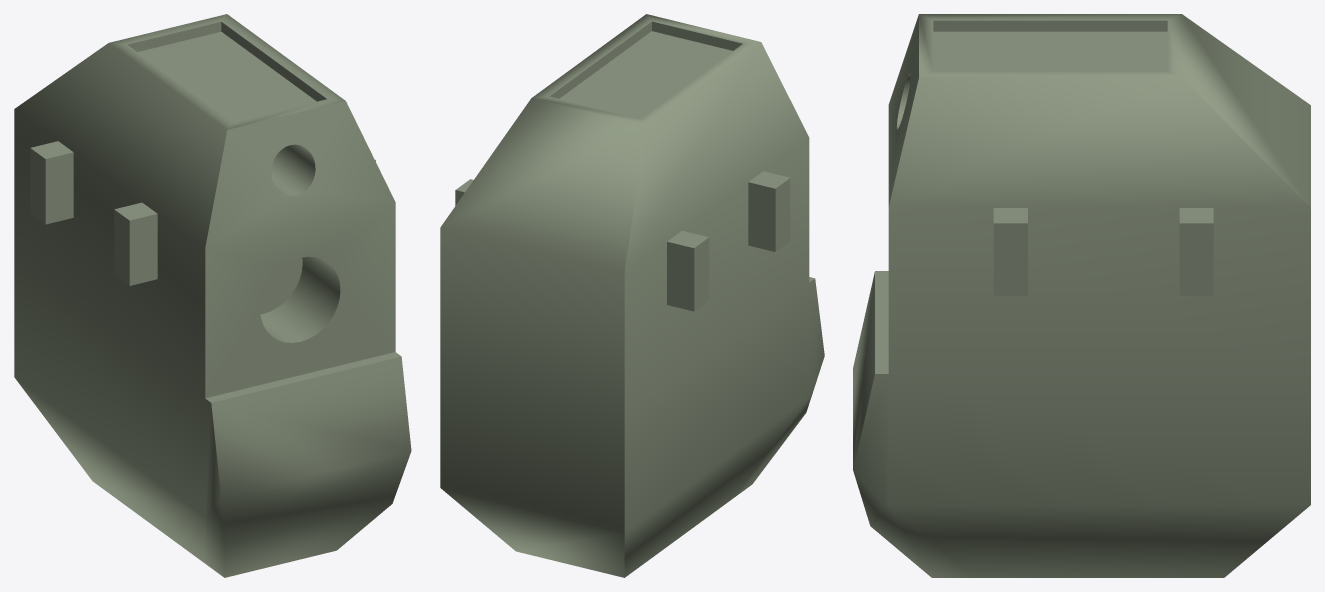
The model's file is Prop-Thingy.glb.
3 views of the same model, side by side, from view 1: azimuth 30°, elevation 25°; view 2: azimuth 150°, elevation 25°; view 3: azimuth 270°, elevation 25° (orthographic). The views are drawn at different scales.
Parts seen in each view (by area): view 1: Cube; view 2: Cube; view 3: Cube.
Part boxes in pixels (box(x1,y1,x2,y2)): Cube: box(14, 14, 411, 577); Cube: box(440, 14, 824, 577); Cube: box(853, 14, 1310, 577).
Bounding box in the file's own units: 0.1916 × 0.3366 × 0.2783.
